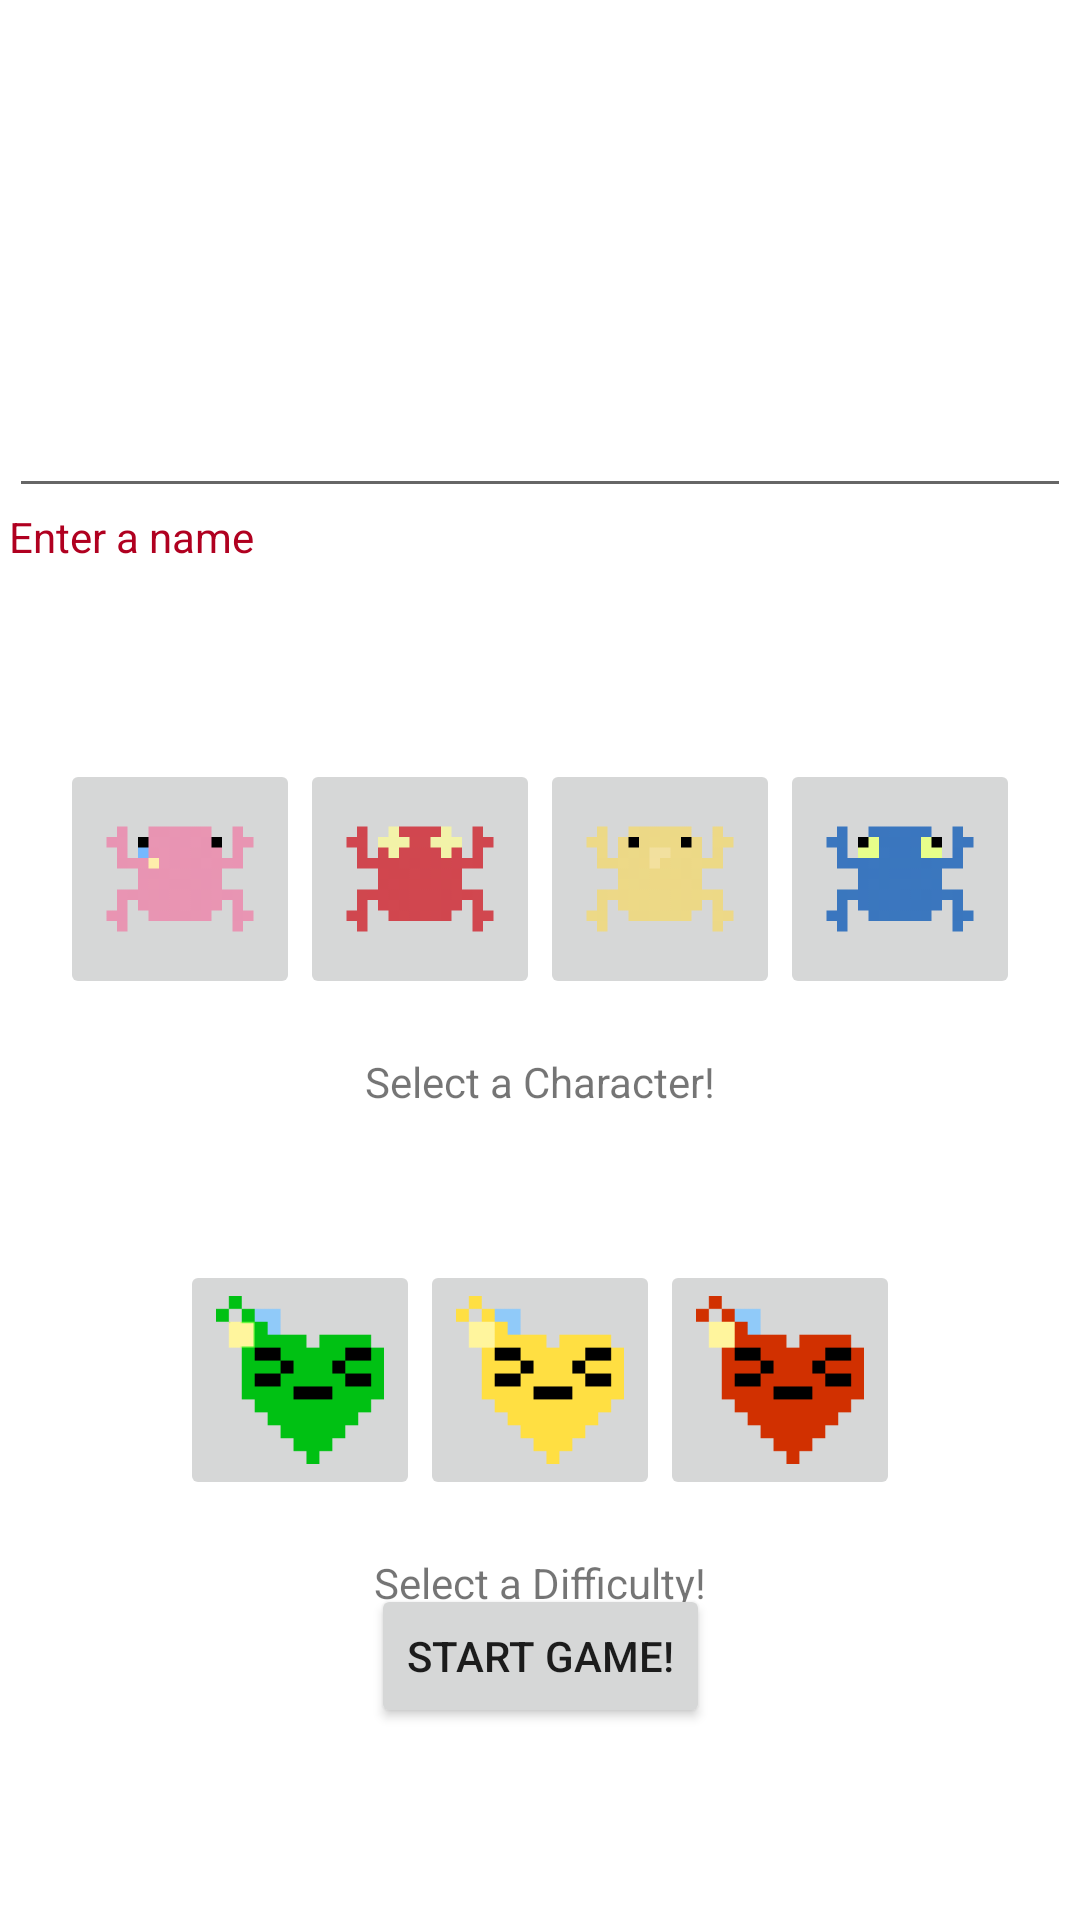

Icon click points for this 1080*1920 phone screenshot, format (x,y):
heart: (300,1380), (540,1380), (780,1380)
